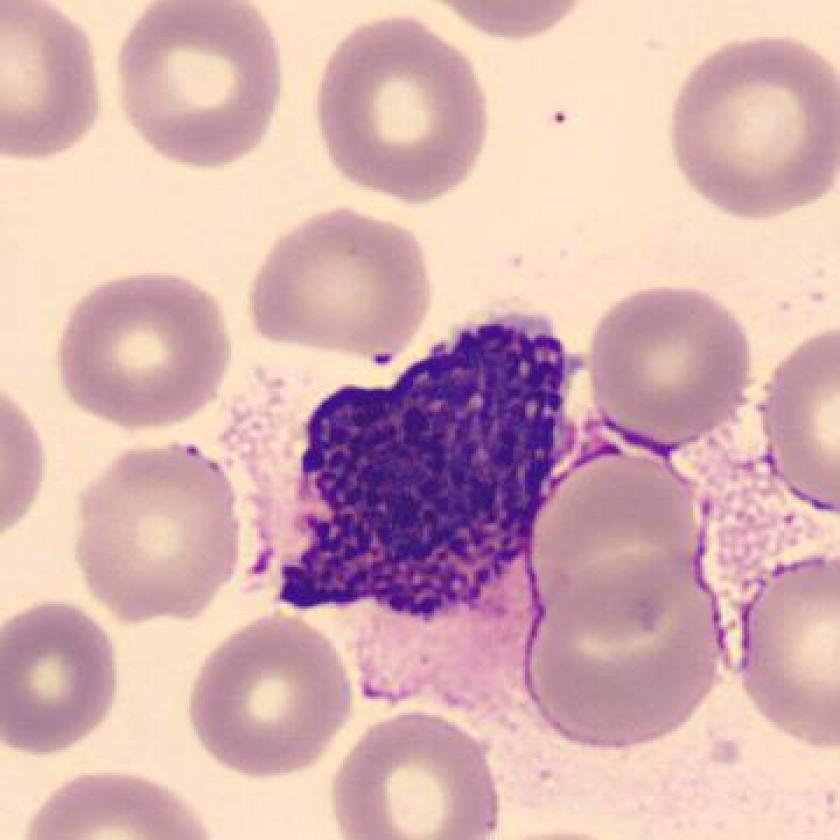basophil: (260, 316, 577, 626)
